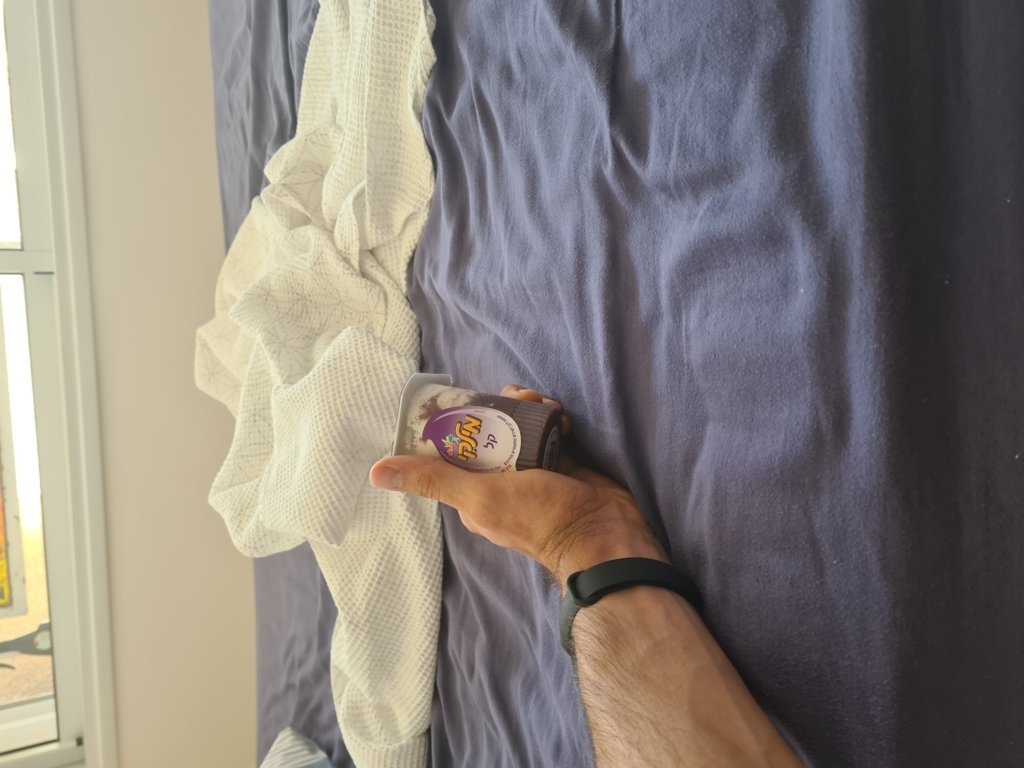milky: (388, 369, 571, 511)
